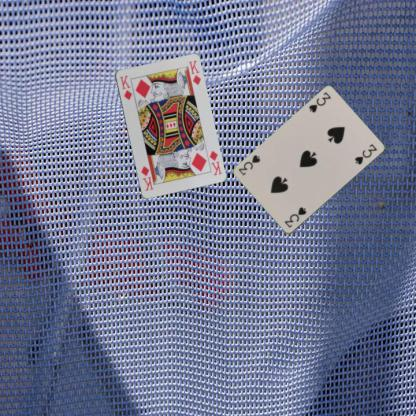3s: (282, 204, 307, 230), (306, 90, 332, 114)
Kd: (117, 73, 133, 101), (207, 148, 223, 176)
